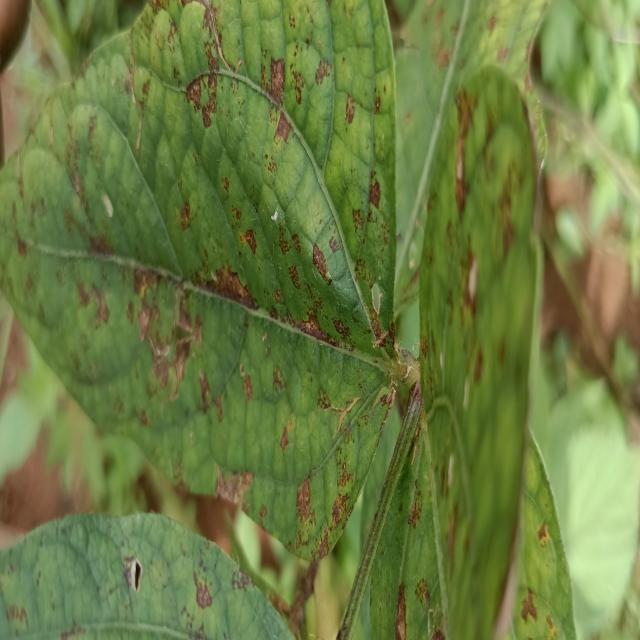Black gram_leaf spot: (1, 4, 412, 575), (418, 68, 584, 640)
